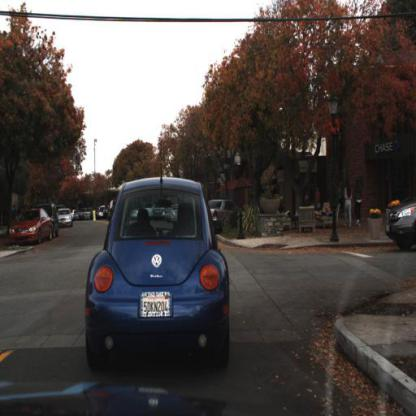car: (83, 171, 237, 383), (9, 207, 54, 247), (387, 195, 416, 249), (207, 200, 241, 231), (56, 208, 74, 231), (106, 200, 120, 225), (49, 204, 59, 238)
pedestrian: (341, 177, 354, 229), (354, 178, 364, 228), (321, 198, 330, 214), (315, 185, 323, 202)
